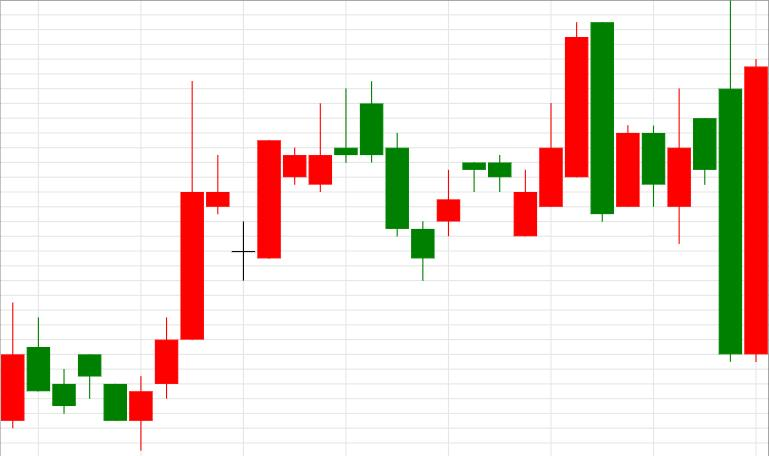bearish_engulfing_fall: (514, 22, 613, 237)
